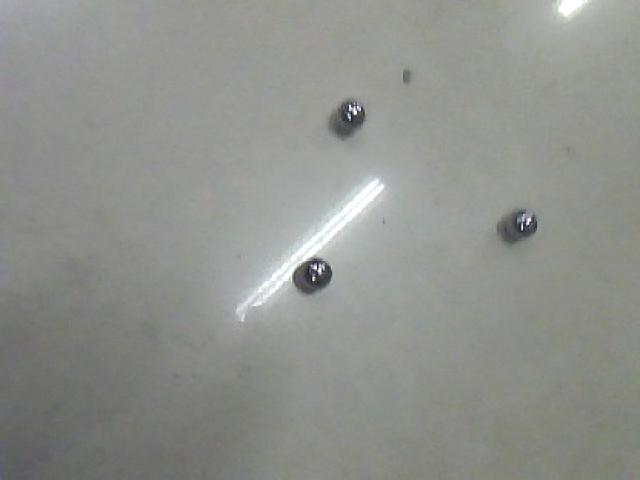steel-ball: (320, 82, 385, 152), (278, 228, 338, 299), (466, 194, 540, 251)
